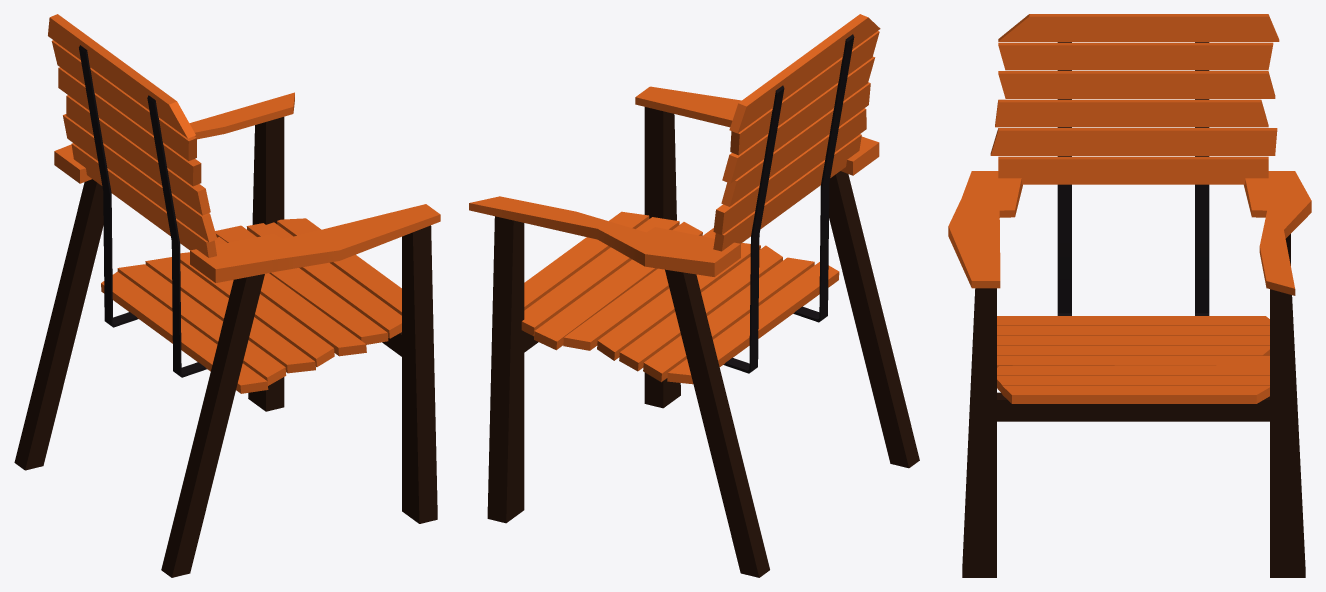
Rendered from Wood_Chair.fbx.
3 views of the same model, side by side, from view 1: azimuth 30°, elevation 25°; view 2: azimuth 150°, elevation 25°; view 3: azimuth 270°, elevation 25° (orthographic). The views are drawn at different scales.
Visible parts, largest first — view 1: Legs, Bench, BackRest, Armrest, Steel; view 2: Legs, Bench, BackRest, Armrest, Steel; view 3: BackRest, Bench, Legs, Armrest, Steel.
Part boxes in pixels (box(x1,y1,x2,y2)): Legs: box(14, 117, 437, 577); Bench: box(101, 218, 401, 393); BackRest: box(48, 14, 217, 257); Armrest: box(54, 92, 440, 282); Steel: box(79, 45, 206, 377); Legs: box(487, 107, 919, 577); Bench: box(521, 211, 839, 384); BackRest: box(713, 14, 880, 251); Armrest: box(469, 86, 879, 276); Steel: box(723, 34, 854, 373); BackRest: box(990, 14, 1279, 184); Bench: box(997, 316, 1269, 403); Legs: box(962, 234, 1305, 577); Armrest: box(948, 171, 1311, 295); Steel: box(1057, 42, 1209, 315).
Size of the model in its own units: 94.32 by 143 by 105.
